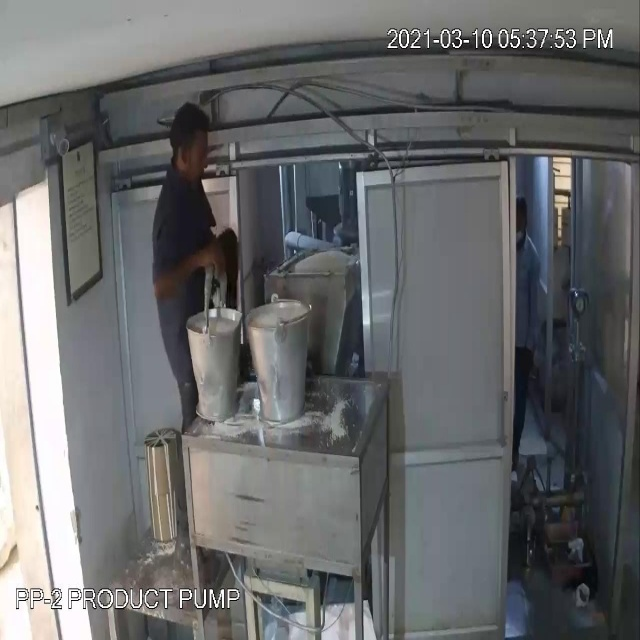Sin_guantes: (142, 230, 220, 305)
